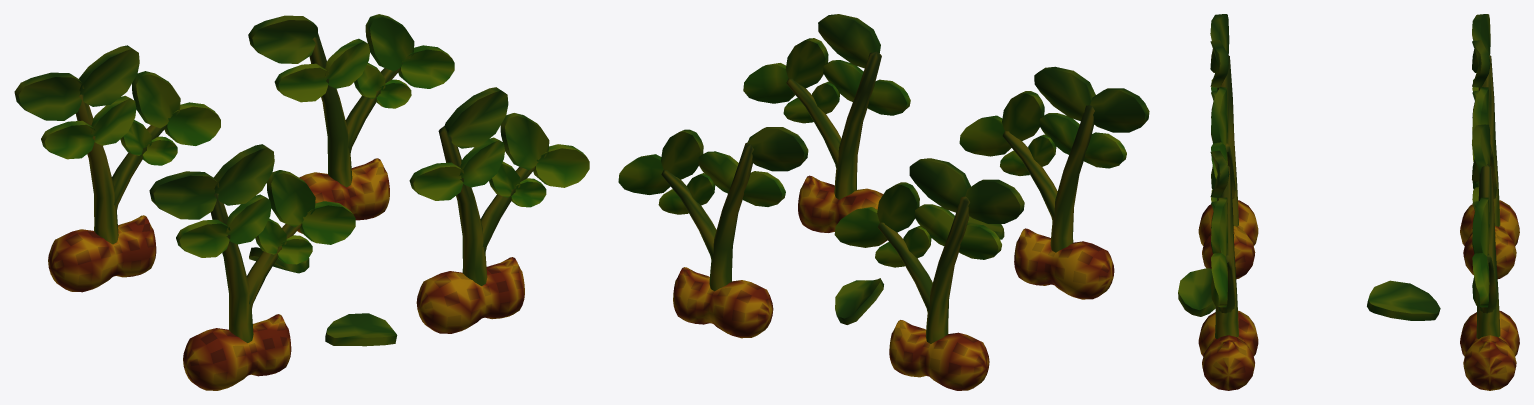
File: Farm_Crop_Peanut_Dead.fbx
3 renders of one model, left to right at view 1: azimuth 30°, elevation 25°; view 2: azimuth 150°, elevation 25°; view 3: azimuth 270°, elevation 25°, orthographic. The views are drawn at different scales.
Visible parts, largest first — view 1: Farm_Crop_Peanut_Dead; view 2: Farm_Crop_Peanut_Dead; view 3: Farm_Crop_Peanut_Dead.
Boxes of the visible parts, x1,y1,x2,y2 form: Farm_Crop_Peanut_Dead: [14, 14, 589, 390]; Farm_Crop_Peanut_Dead: [618, 14, 1149, 390]; Farm_Crop_Peanut_Dead: [1178, 14, 1519, 390].
Size of the model in its own units: 186 by 96.35 by 131.
